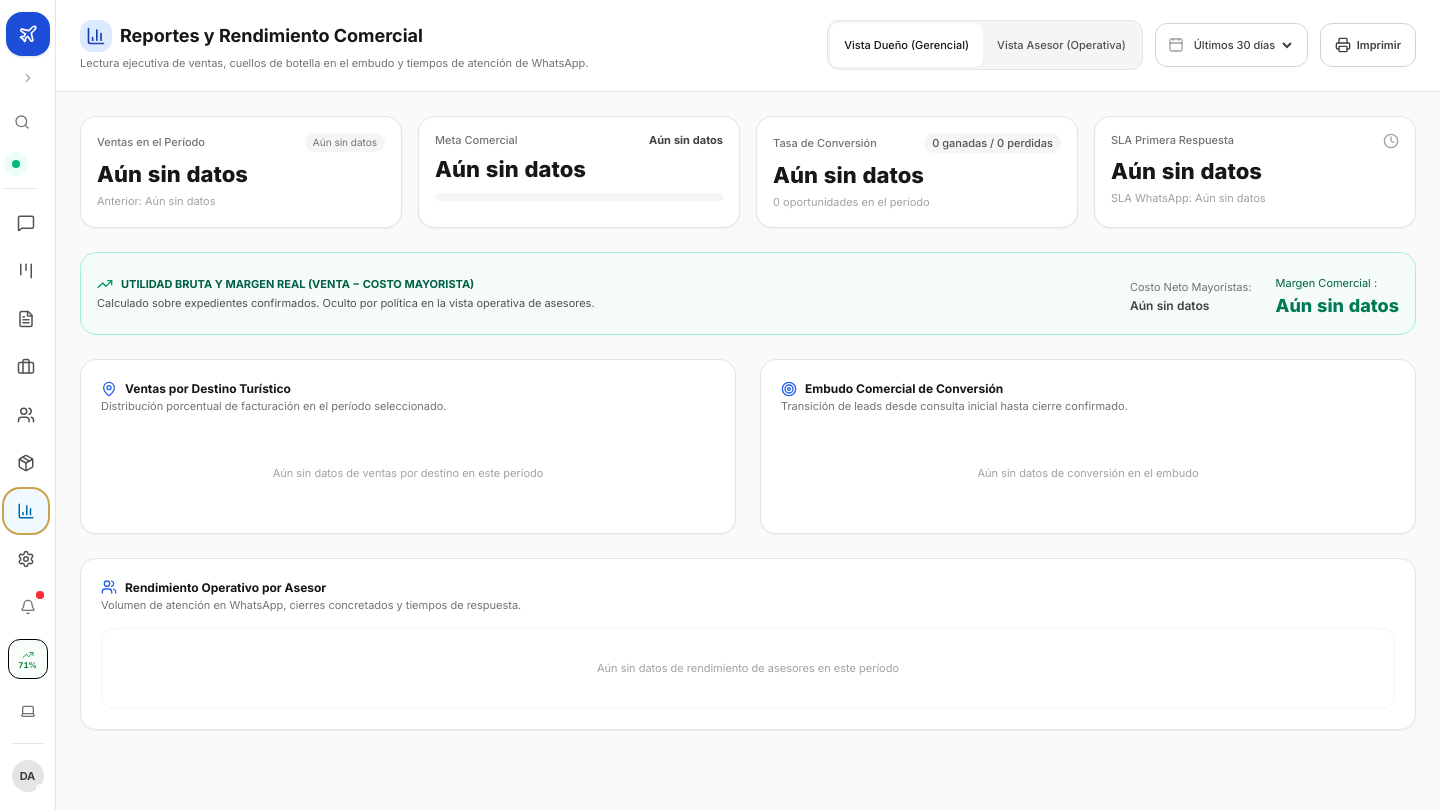
it: ReportesPage - Ocultamiento de Costo Neto y Margen sin permiso (0c.27) › permite alternar a vista asesor ocultando el margen aunque el dueño tenga permiso
The image size is (1440, 810).
Click the button "Vista Asesor (Operativa)": (1061, 45) [983, 23, 1140, 67]
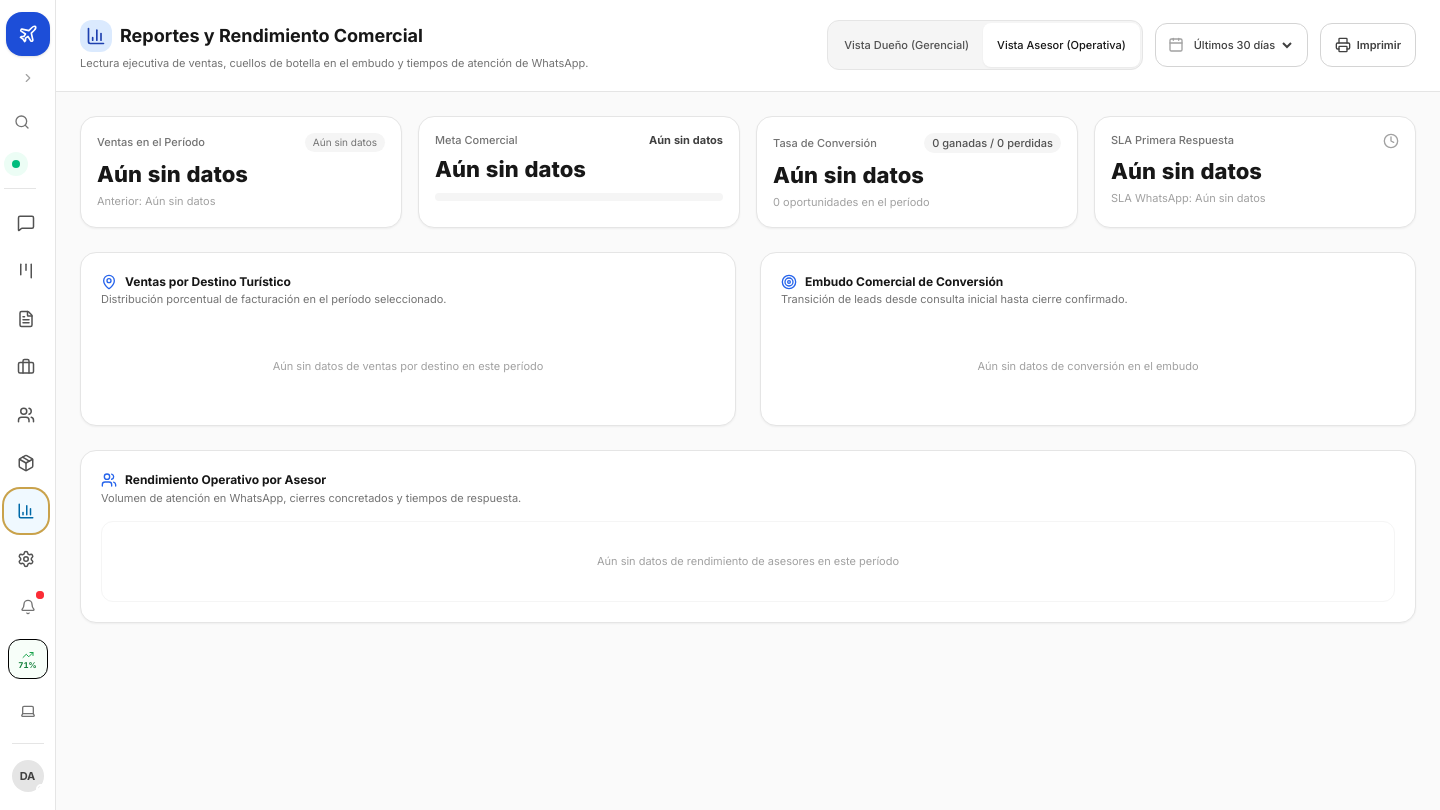
Expected: the element with test id "seccion-margen-confidencial" is gone
Expected: the text "Costo Neto Mayoristas:" is gone
